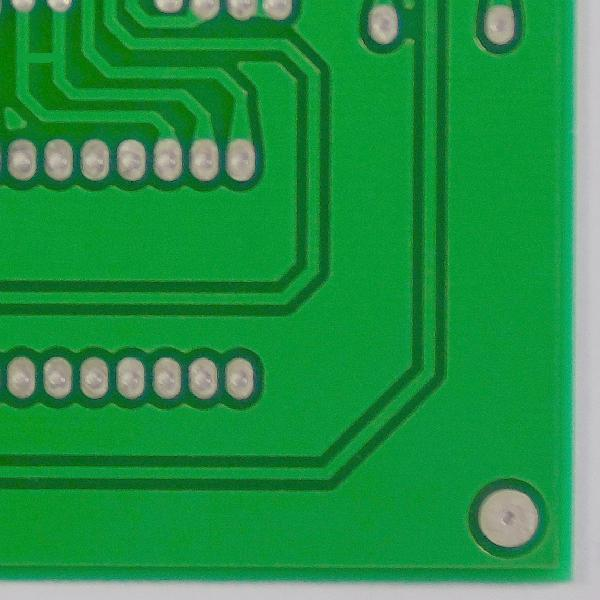short: (13, 40, 73, 84)
